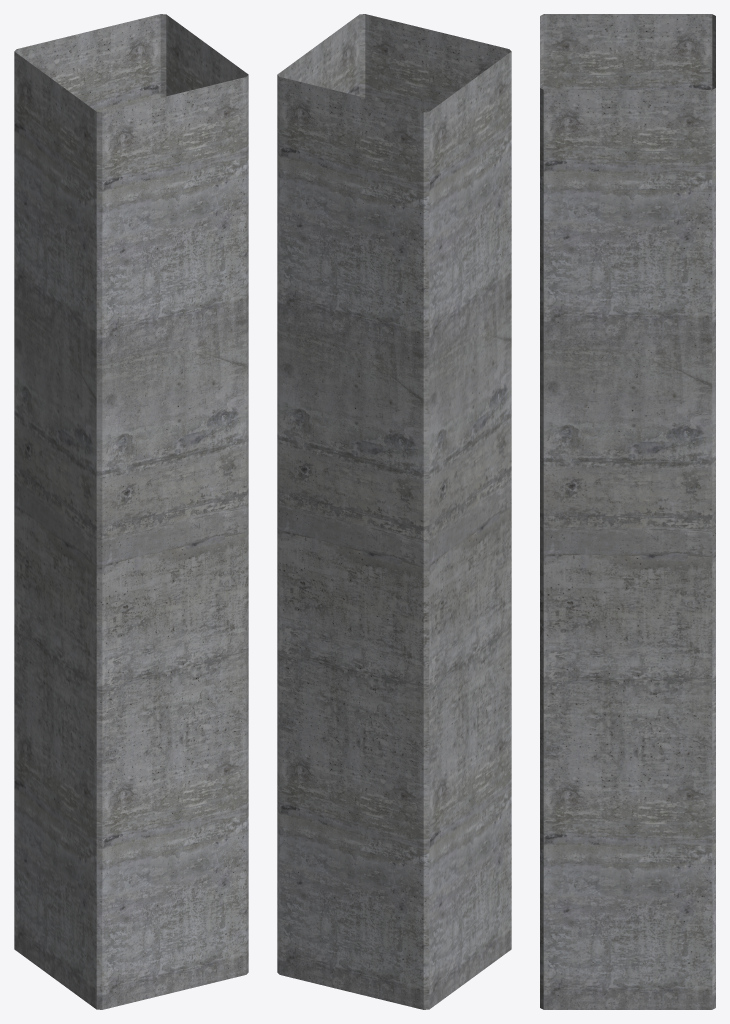
File: BUILDING_cavePillar_01.FBX
3 views of the same model, side by side, from view 1: azimuth 30°, elevation 25°; view 2: azimuth 150°, elevation 25°; view 3: azimuth 270°, elevation 25° (orthographic). The views are drawn at different scales.
Parts seen in each view (by area): view 1: BUILDING_cavePillar_01; view 2: BUILDING_cavePillar_01; view 3: BUILDING_cavePillar_01.
Part boxes in pixels (box(x1,y1,x2,y2)): BUILDING_cavePillar_01: box(14, 14, 248, 1009); BUILDING_cavePillar_01: box(277, 14, 511, 1009); BUILDING_cavePillar_01: box(540, 14, 715, 1009).
Bounding box in the file's own units: 0.7165 × 4.04 × 0.7011.
1 material, 1 textured.
